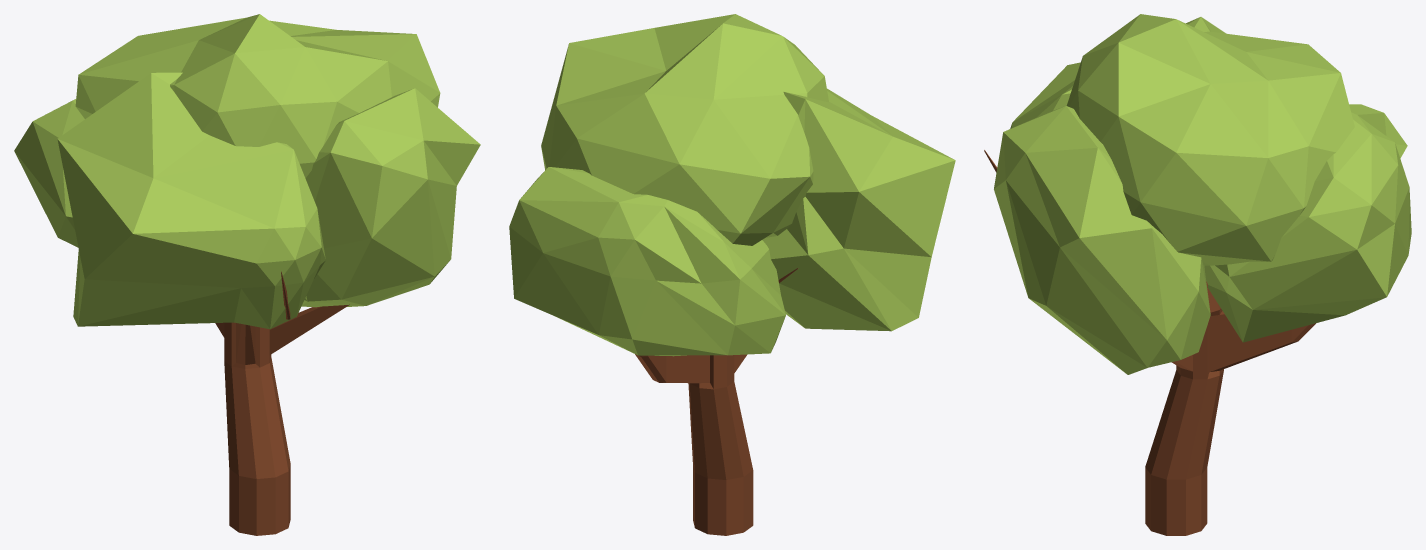
Rendered from superlightgreen.fbx.
The picture shows the model from 3 angles, left to right: view 1: azimuth 30°, elevation 25°; view 2: azimuth 150°, elevation 25°; view 3: azimuth 270°, elevation 25°; orthographic projection.
Visible parts, largest first — view 1: Cylinder.001; view 2: Cylinder.001; view 3: Cylinder.001.
Boxes of the visible parts, x1=… form: Cylinder.001: x1=14, y1=14, x2=480, y2=535; Cylinder.001: x1=509, y1=14, x2=955, y2=535; Cylinder.001: x1=984, y1=14, x2=1411, y2=535.
Bounding box in the file's own units: 1356 × 1790 × 1375.
1 material, 1 textured.
